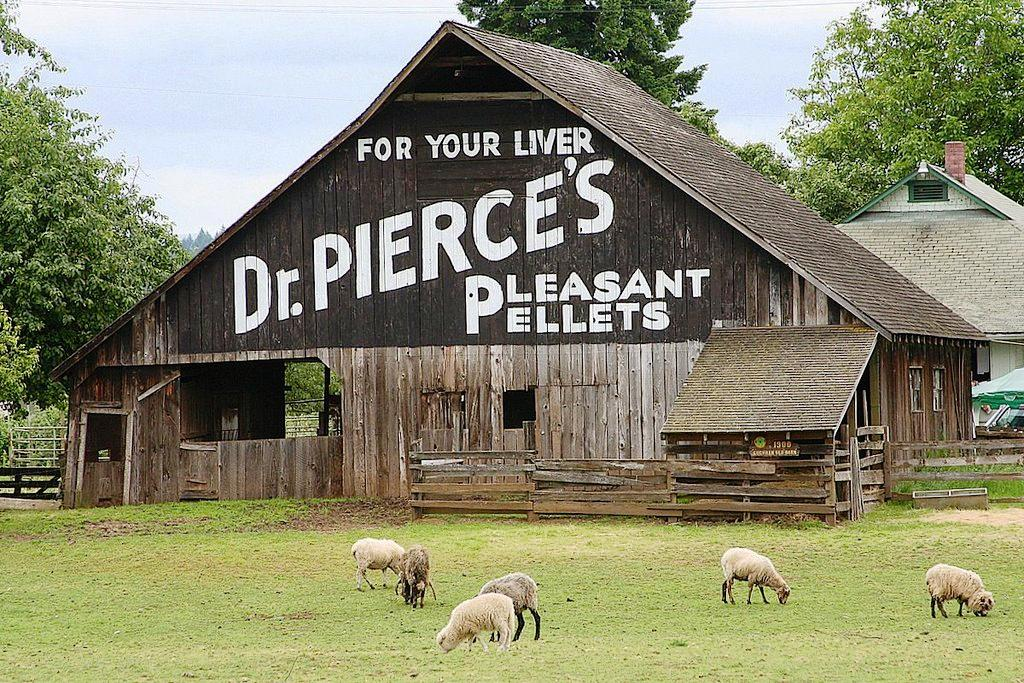Sheep: (425, 601, 530, 660), (477, 571, 539, 638), (720, 548, 790, 606), (926, 564, 998, 620), (350, 540, 403, 590), (395, 547, 431, 607)
